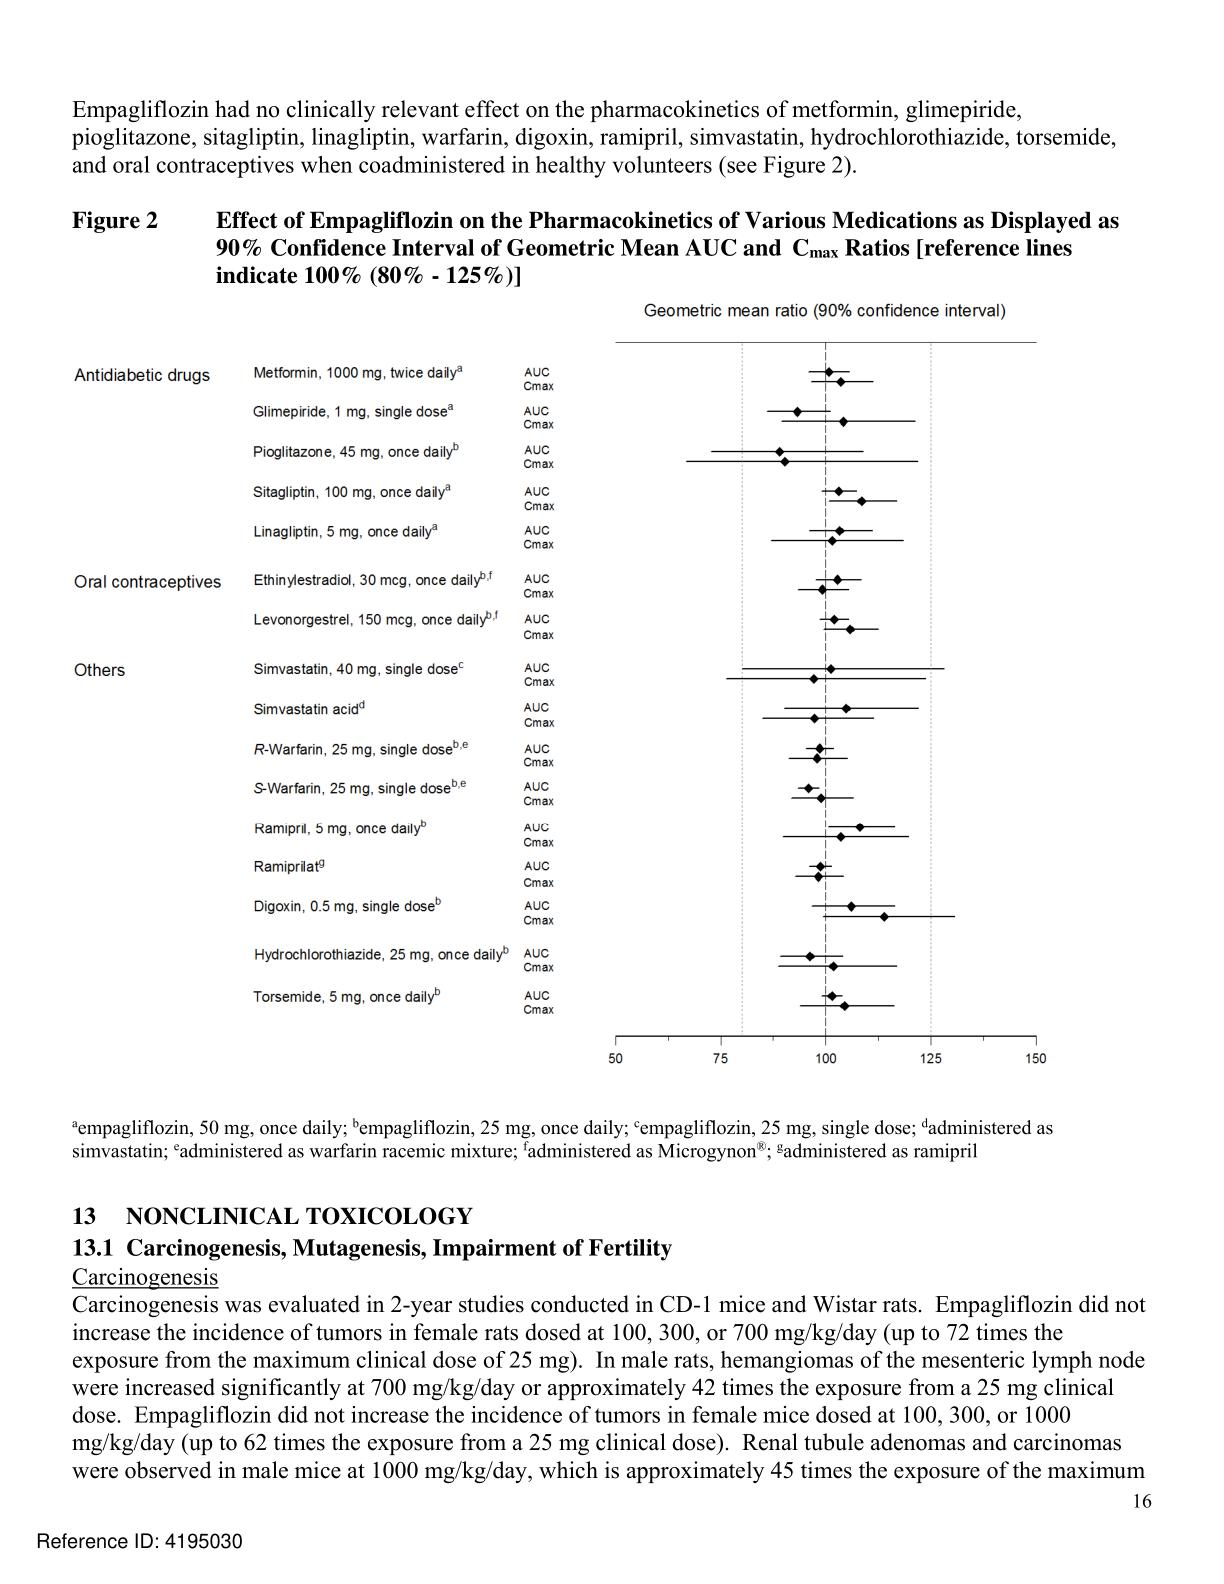nolines: (72, 363, 561, 1020)
